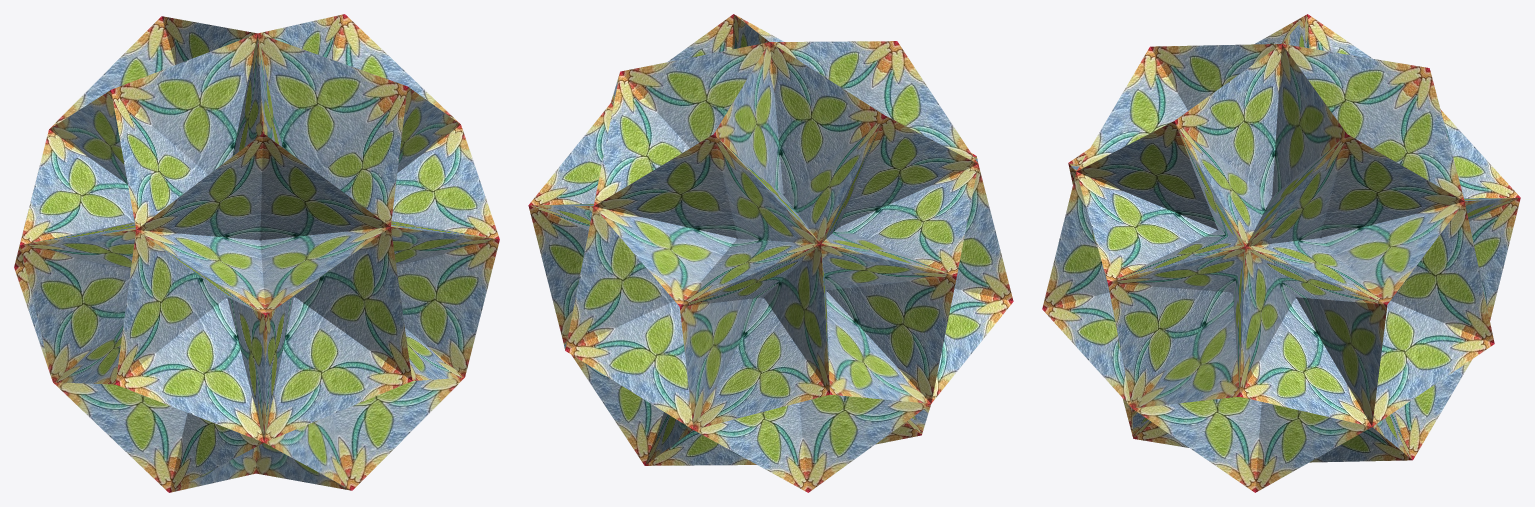
File: Mobius120b_1.obj
3 renders of one model, left to right at view 1: azimuth 30°, elevation 25°; view 2: azimuth 150°, elevation 25°; view 3: azimuth 270°, elevation 25°, orthographic. The views are drawn at different scales.
Bounding box in the file's own units: 3.09 × 3.02 × 3.11.
1 material, 1 textured.
